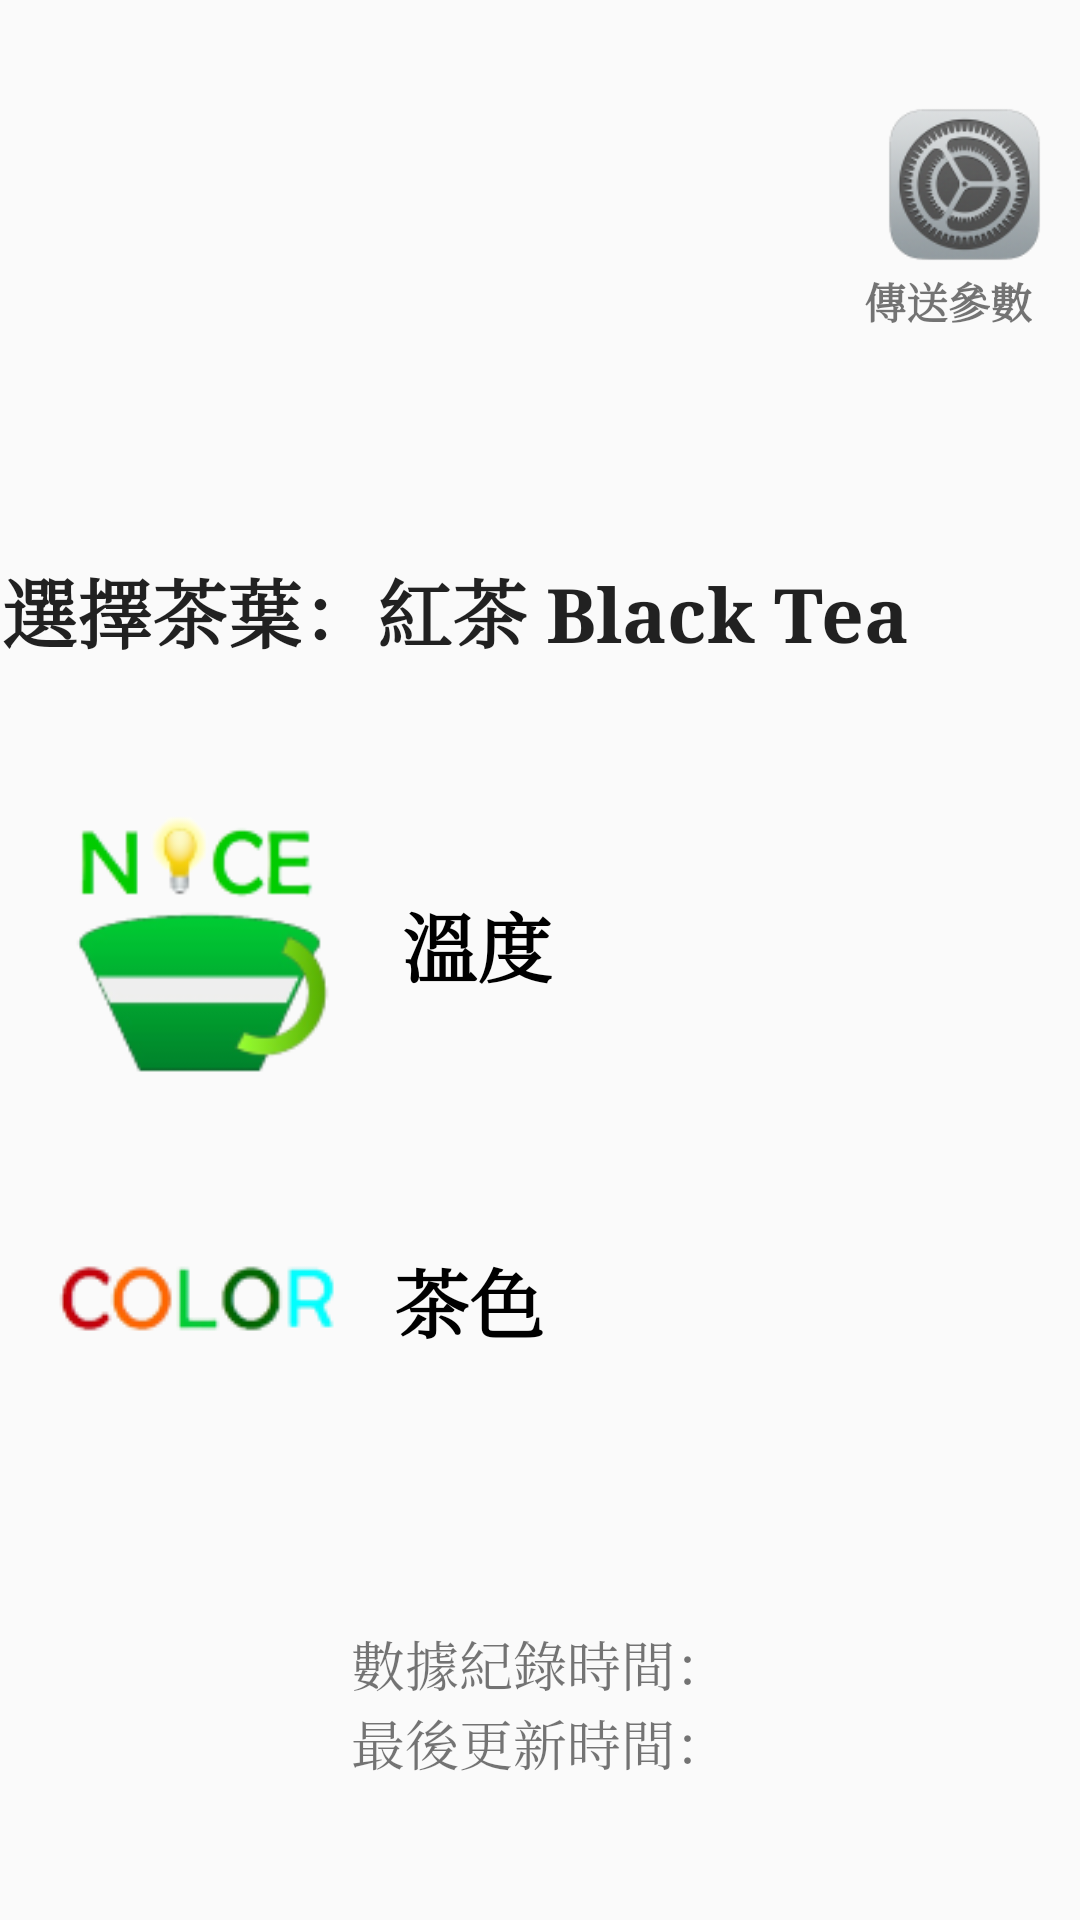

Locate icon controls on the screen. Image size 1080×1920, boxes as (x1, y1, x2, y2).
setting: (889, 109, 1040, 260)
